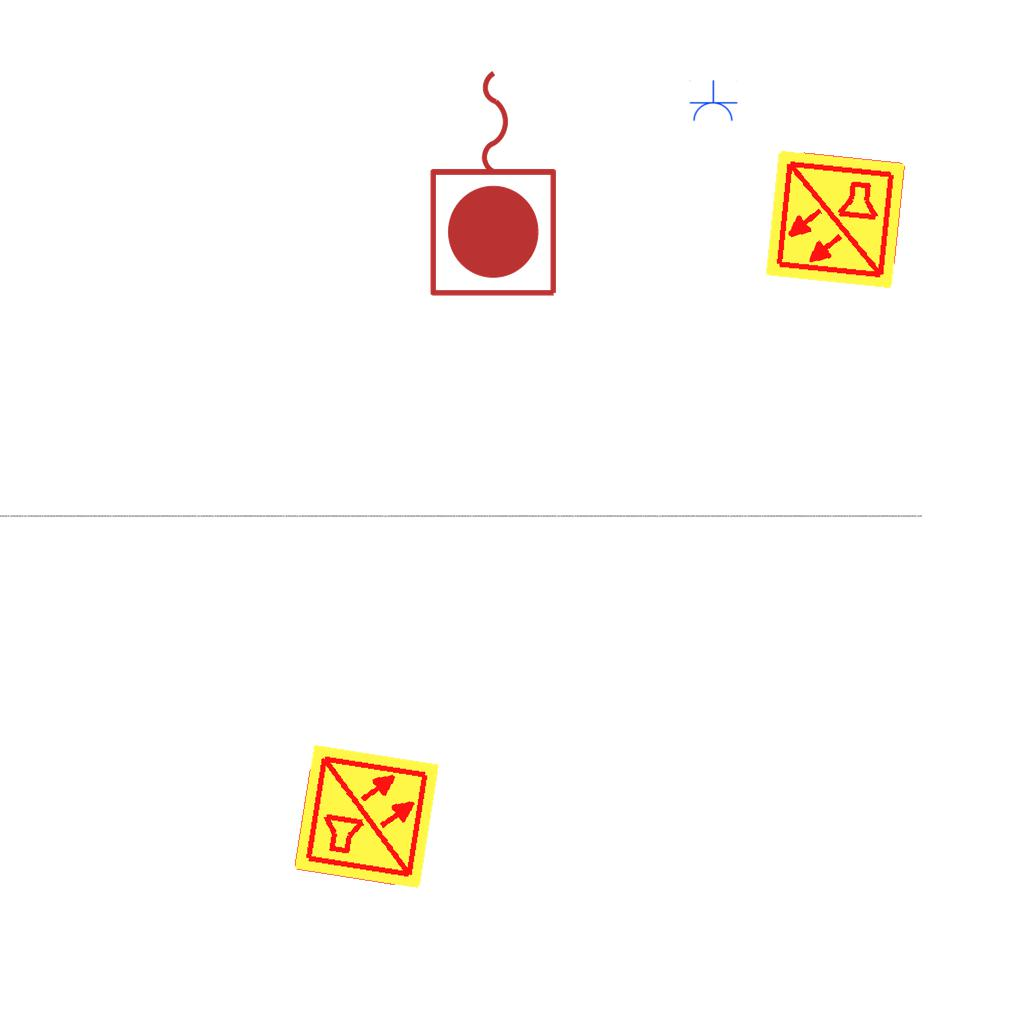OKW_Multisensormelder_(Kombination_optischer_Rauch-Kahlenmonoxid_Waerme-Melder): (291, 741, 443, 893), (762, 146, 908, 292)
Schukosteckdose_einfach: (688, 80, 738, 123)
Zugtaster: (423, 60, 567, 304)
